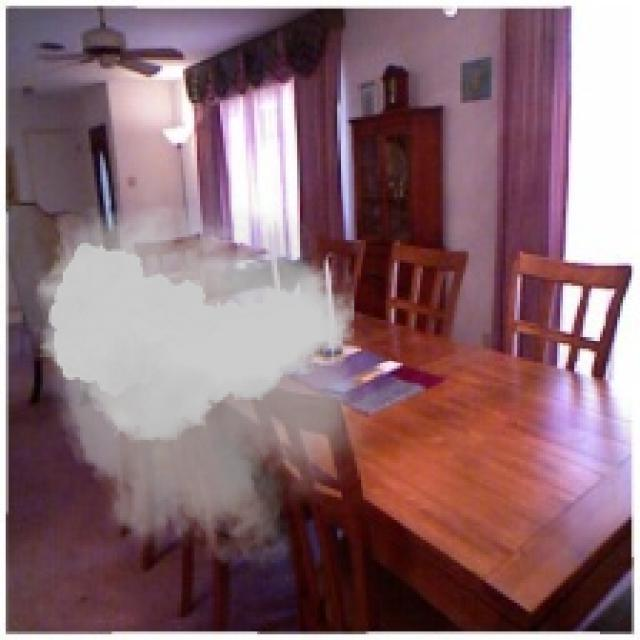Smoke: (26, 174, 377, 589)
